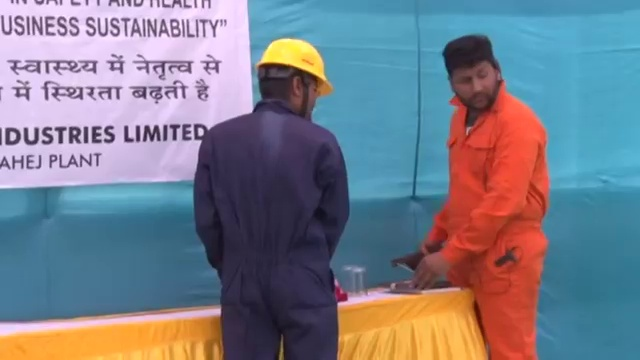helmet: (256, 36, 336, 96)
helmet_off: (438, 32, 507, 116)
helmet_on: (255, 34, 334, 118)
person: (189, 35, 351, 360), (410, 31, 552, 360)
